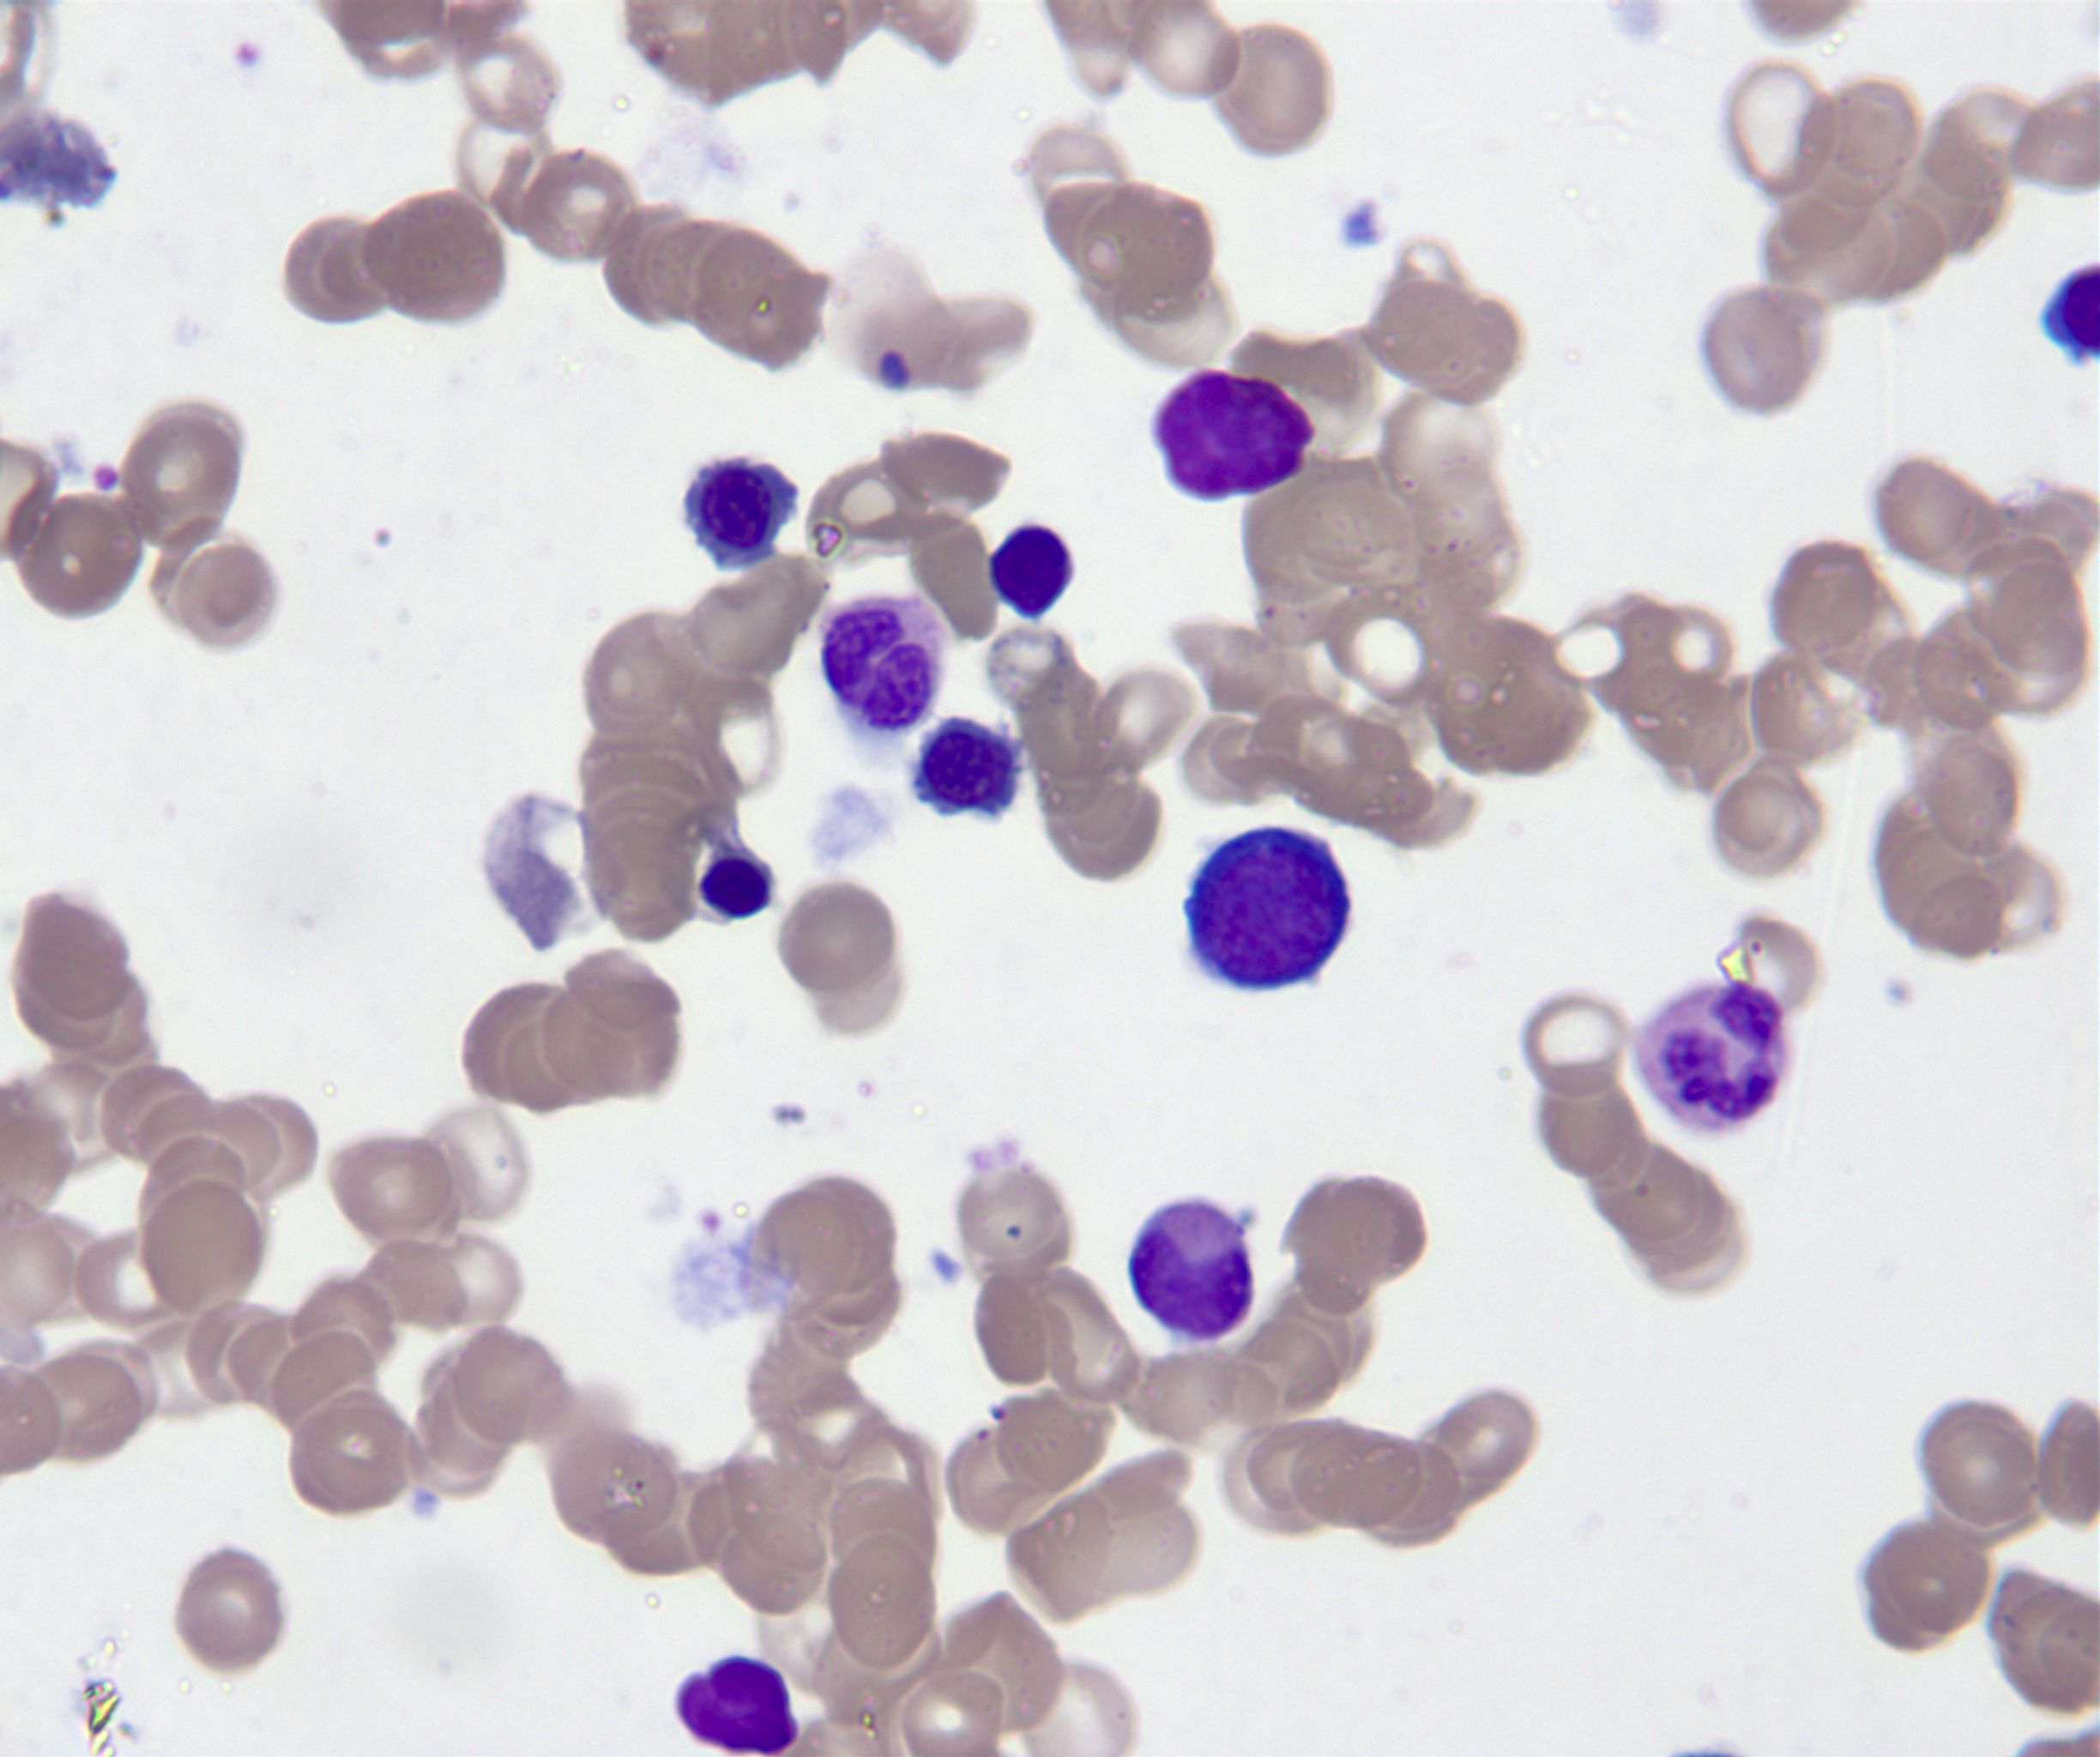22: (1184, 827, 1350, 991)
24: (663, 804, 776, 925), (682, 457, 799, 572), (912, 715, 1022, 822)
4: (1130, 1197, 1254, 1340)
6: (1629, 981, 1791, 1136), (816, 595, 945, 757)
x: (1149, 368, 1313, 501), (675, 1656, 799, 1757), (991, 523, 1073, 619)
